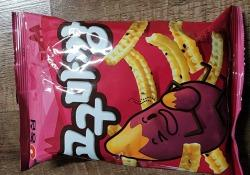snack: (0, 7, 243, 171)
